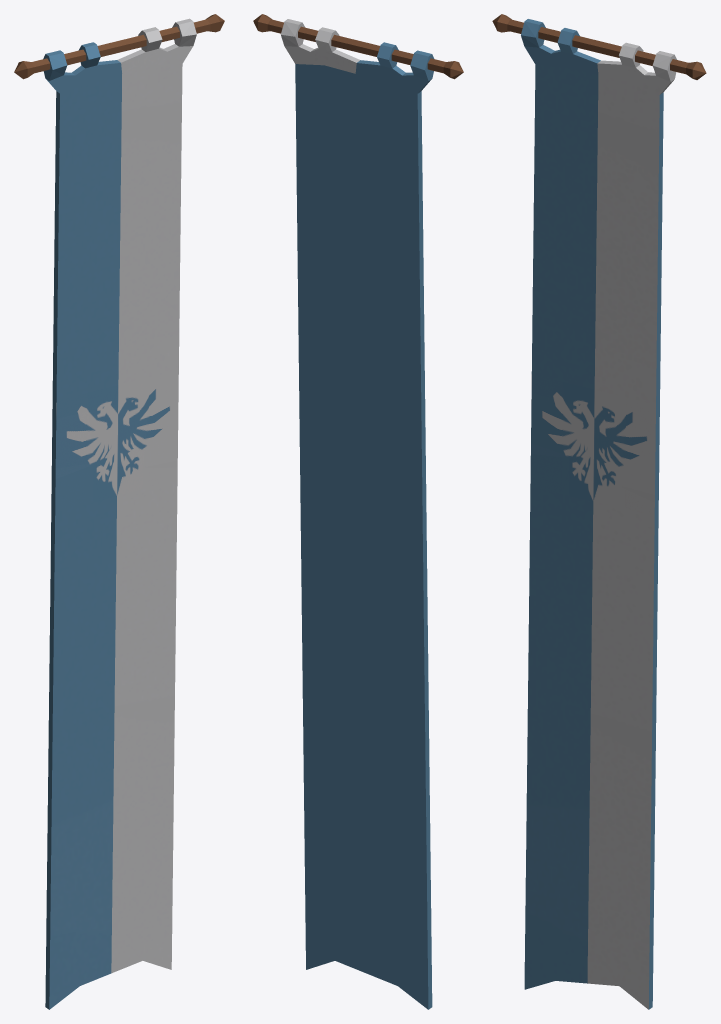
File: Baniermuur.fbx
3 renders of one model, left to right at view 1: azimuth 30°, elevation 25°; view 2: azimuth 150°, elevation 25°; view 3: azimuth 330°, elevation 25°, orthographic.
Parts seen in each view (by area): view 1: Banier, Stok; view 2: Banier, Stok; view 3: Banier, Stok.
Boxes of the visible parts, bbox=[...] form: Banier: bbox=[43, 18, 196, 1009]; Stok: bbox=[14, 14, 224, 79]; Banier: bbox=[280, 19, 434, 1009]; Stok: bbox=[253, 14, 463, 79]; Banier: bbox=[521, 19, 676, 1009]; Stok: bbox=[492, 14, 706, 79].
Bounding box in the file's own units: 579 × 2503 × 52.38.
